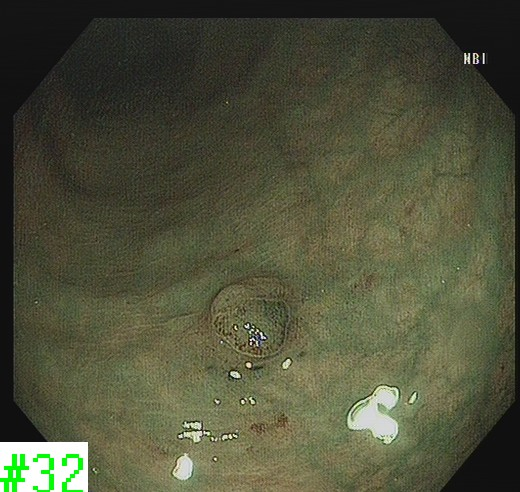adenoma: (205, 274, 294, 361)
